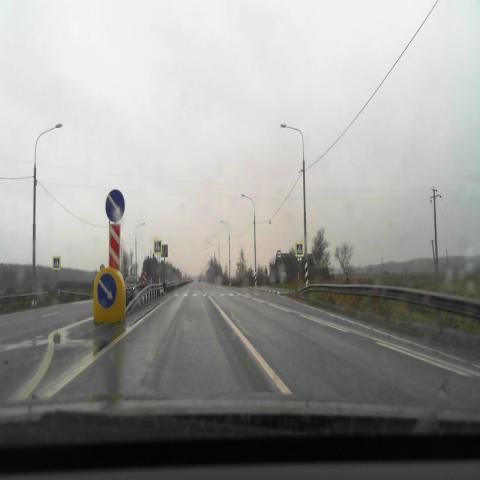4_2_1: (97, 272, 117, 309)
